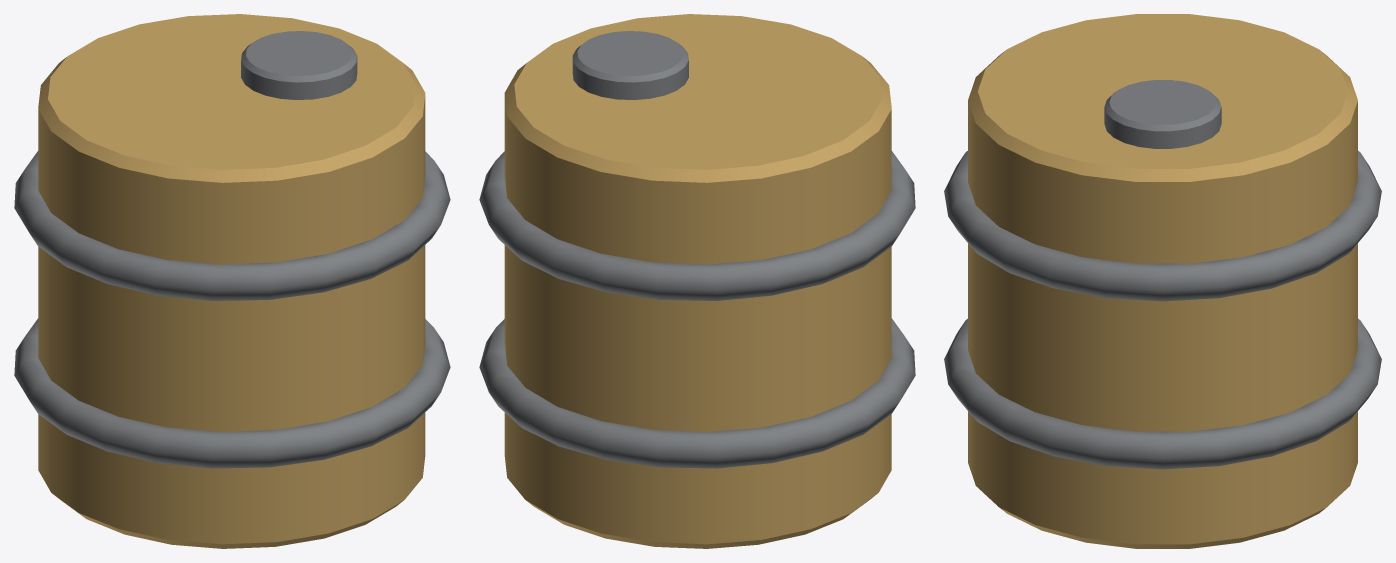
Rendered from prop_barrel.glb.
3 views of the same model, side by side, from view 1: azimuth 30°, elevation 25°; view 2: azimuth 150°, elevation 25°; view 3: azimuth 270°, elevation 25° (orthographic).
Parts seen in each view (by area): view 1: Cylinder, Torus.001, Torus, Cylinder.001; view 2: Cylinder, Torus.001, Torus, Cylinder.001; view 3: Cylinder, Torus.001, Torus, Cylinder.001.
Boxes of the visible parts, x1,y1,x2,y2 form: Cylinder: (38,14,425,548); Torus.001: (14,151,450,300); Torus: (14,318,450,468); Cylinder.001: (241,31,357,99); Cylinder: (504,14,891,548); Torus.001: (479,151,915,300); Torus: (479,318,915,468); Cylinder.001: (572,31,688,99); Cylinder: (968,14,1357,548); Torus.001: (944,151,1381,301); Torus: (944,318,1381,469); Cylinder.001: (1104,80,1221,148).
Bounding box in the file's own units: 0.8958 × 0.91 × 0.8979.
